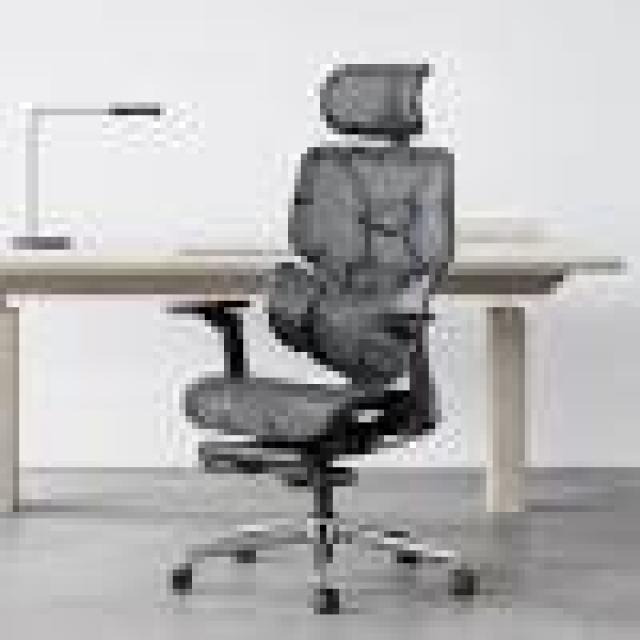chair: (130, 54, 528, 640)
